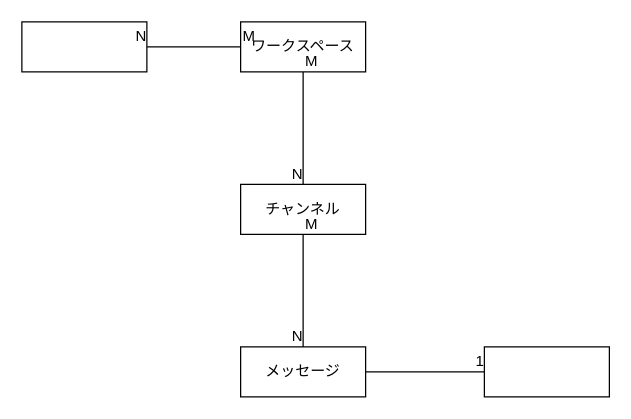
Image size: 631x419. Some labels were removed from this diagram. The shapes that lost their labels are listed below. From the top down, each one's box as (x1, y1, x2, y2) in pixels, then its label:
(21, 21, 147, 72): ユーザー
(483, 346, 609, 397): スレッド
